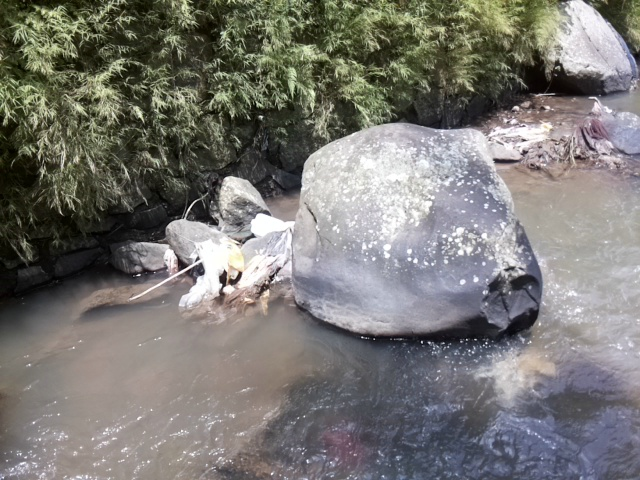Sampah_Plastik: (184, 235, 264, 315), (535, 111, 608, 171)
